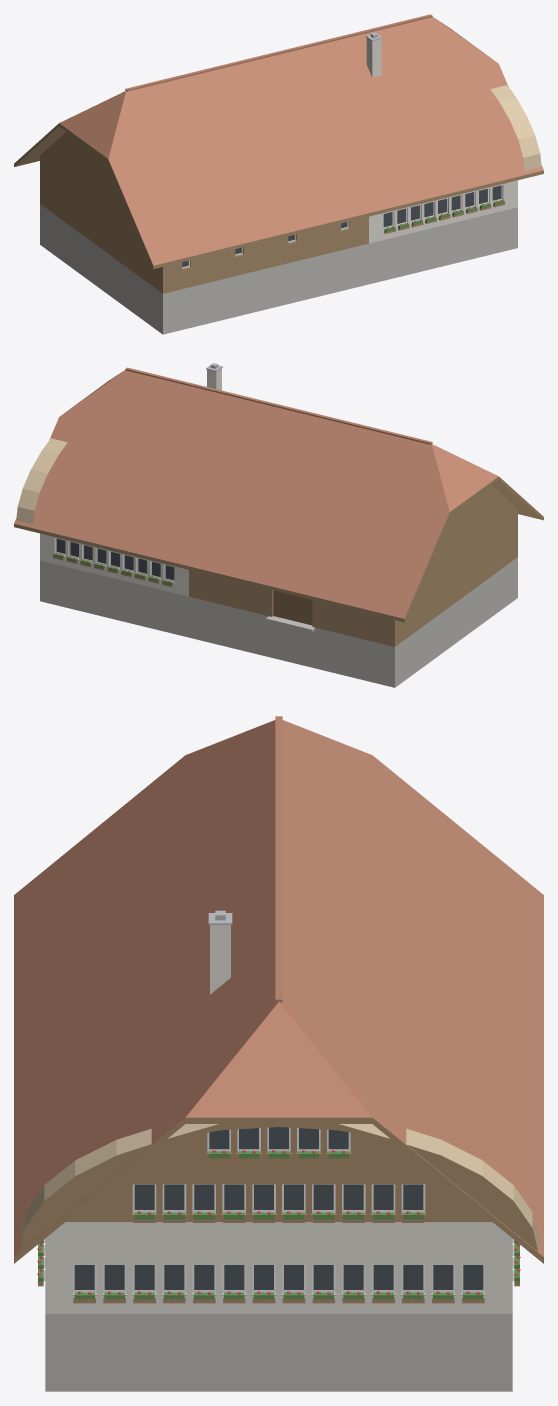
The model's file is farmhouse_xl.glb.
3 renders of one model, top to bottom at view 1: azimuth 30°, elevation 25°; view 2: azimuth 150°, elevation 25°; view 3: azimuth 270°, elevation 25°, orthographic. The views are drawn at different scales.
Parts seen in each view (by area): view 1: farmhouse_xl; view 2: farmhouse_xl; view 3: farmhouse_xl.
Part boxes in pixels (x1,y1,x2,y2): farmhouse_xl: (14, 14, 543, 334); farmhouse_xl: (14, 363, 543, 687); farmhouse_xl: (14, 716, 543, 1391).
Bounding box in the file's own units: 33 × 16.48 × 20.4.
